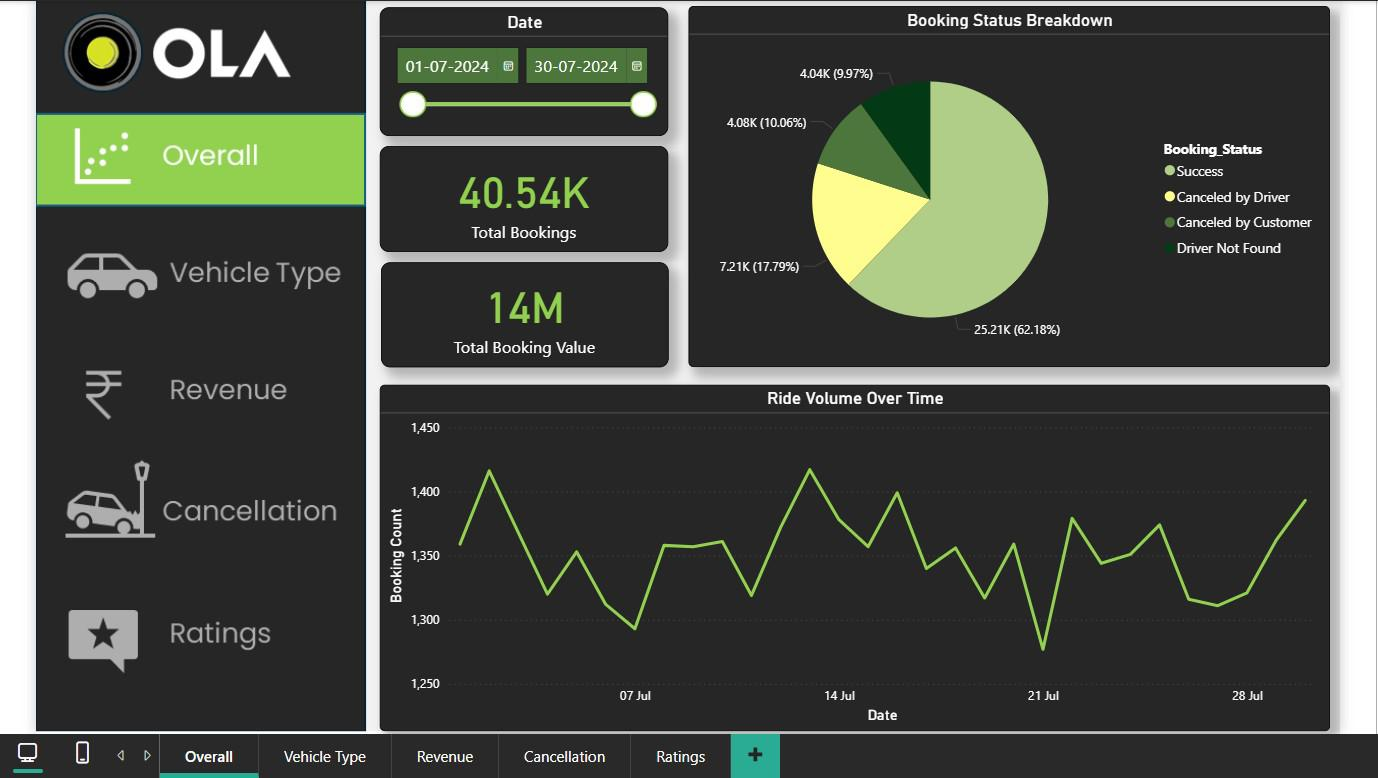

The page's visual inventory and layout, read from the dashboard file:
{"tool":"powerbi","page":{"name":"Overall","canvas":[1280,720],"ordinal":0},"visuals":[{"type":"actionButton","box":[0,110.4,322.7,92],"z":0},{"type":"actionButton","box":[0,219.6,322.7,92],"z":1000},{"type":"actionButton","box":[1.2,333.7,322.7,92],"z":2000},{"type":"actionButton","box":[0,577.9,322.7,92],"z":3000},{"type":"actionButton","box":[0,454,322.7,92],"z":4000},{"type":"lineChart","title":"Ride Volume Over Time","fields":{"Y":["CountNonNull(July.Booking_ID)"],"Category":["July.Date"]},"box":[337.4,376.7,932.5,339.9],"z":5000},{"type":"card","fields":{"Values":["Count(July.Booking_ID)"]},"box":[337.4,142.3,283.4,104.3],"z":6000},{"type":"slicer","title":"Date","fields":{"Values":["July.Date"]},"box":[337.4,6.1,283.4,126.4],"z":7000},{"type":"pieChart","title":"Booking Status Breakdown","fields":{"Category":["July.Booking_Status"],"Y":["CountNonNull(July.Booking_Status)","select"]},"box":[640.5,4.9,629.5,354.6],"z":8000},{"type":"card","fields":{"Values":["Sum(July.Booking_Value)"]},"box":[338.7,256.4,282.2,103.1],"z":9000}]}

Visuals, with their boxes in screenshot pixels (x1, y1, x2, y2):
actionButton: rect(29, 109, 359, 204)
actionButton: rect(29, 221, 359, 316)
actionButton: rect(30, 338, 360, 432)
actionButton: rect(29, 588, 359, 682)
actionButton: rect(29, 461, 359, 556)
"Ride Volume Over Time" lineChart: rect(374, 382, 1329, 730)
card - Count(July.Booking_ID): rect(374, 142, 664, 249)
"Date" slicer: rect(374, 3, 664, 132)
"Booking Status Breakdown" pieChart: rect(685, 1, 1329, 365)
card - Sum(July.Booking_Value): rect(376, 259, 665, 365)
